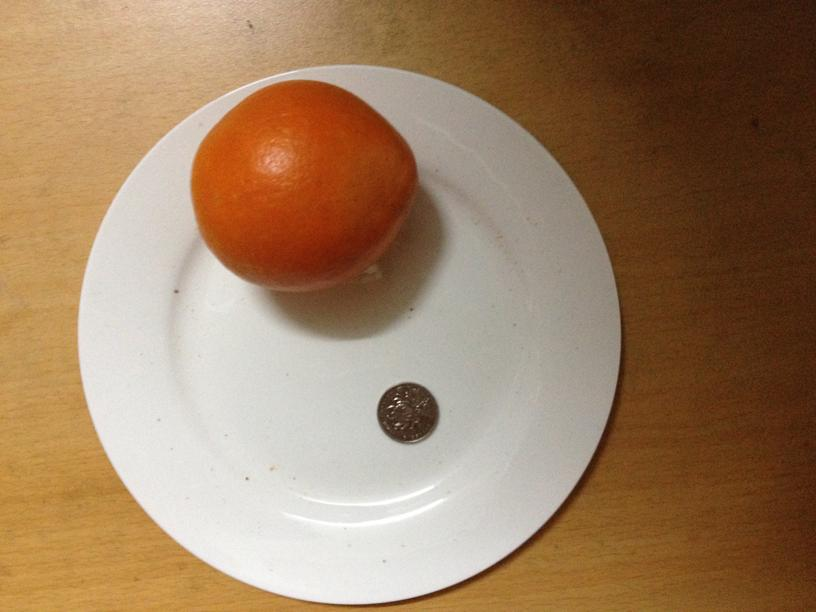coin: (376, 382, 440, 443)
orange: (186, 76, 419, 289)
